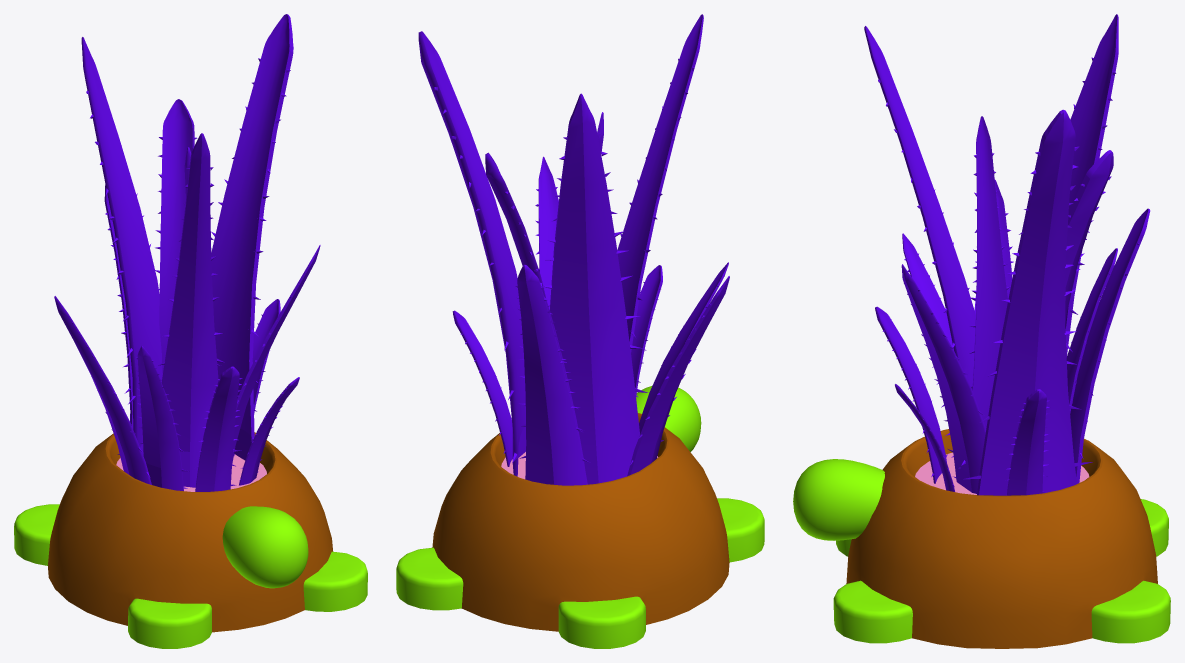
Rendered from N_Aloe.fbx.
The picture shows the model from 3 angles, left to right: view 1: azimuth 30°, elevation 25°; view 2: azimuth 150°, elevation 25°; view 3: azimuth 270°, elevation 25°; orthographic projection. The views are drawn at different scales.
Parts seen in each view (by area): view 1: aloe; view 2: aloe; view 3: aloe.
Boxes of the visible parts, x1=… form: aloe: x1=14, y1=14, x2=367, y2=648; aloe: x1=396, y1=14, x2=764, y2=648; aloe: x1=793, y1=14, x2=1170, y2=648.
Bounding box in the file's own units: 27.47 × 50.03 × 31.54.
